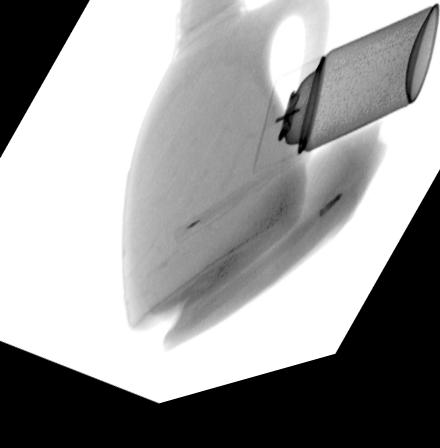Sprayer: (248, 25, 440, 187)
